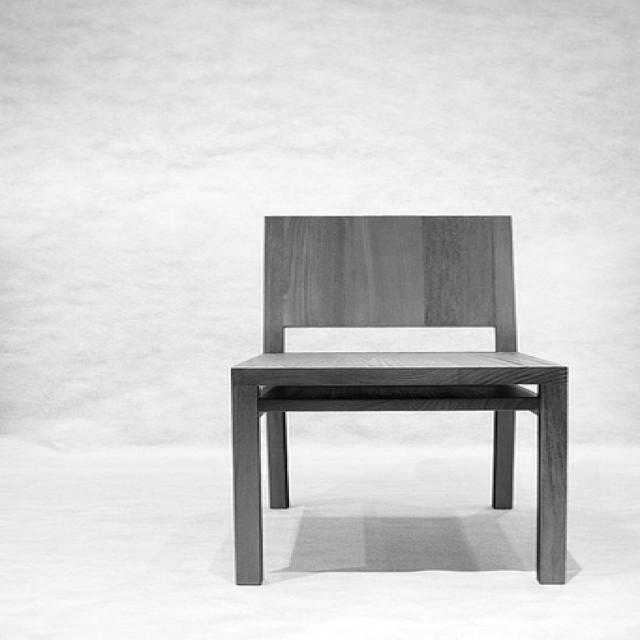chair: (230, 213, 568, 584)
